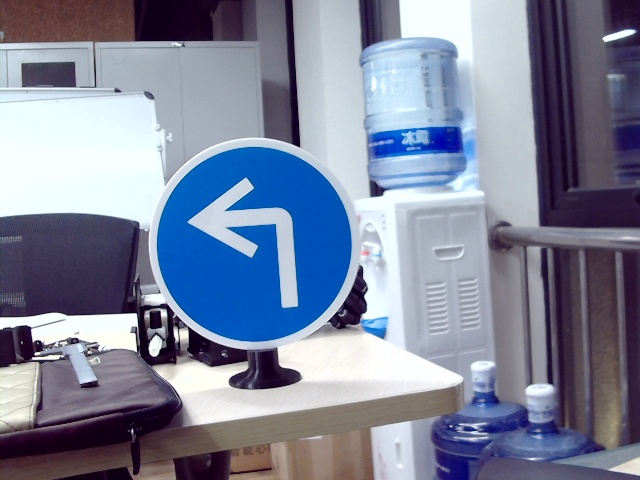turn_left: (190, 174, 304, 315)
